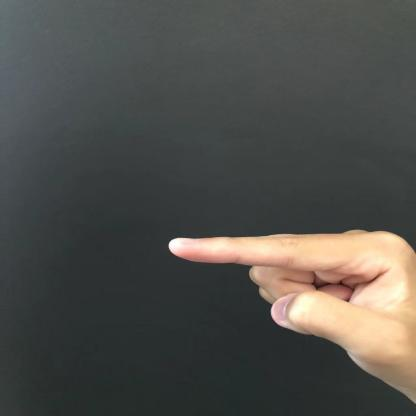finger_point: (122, 181, 382, 284)
